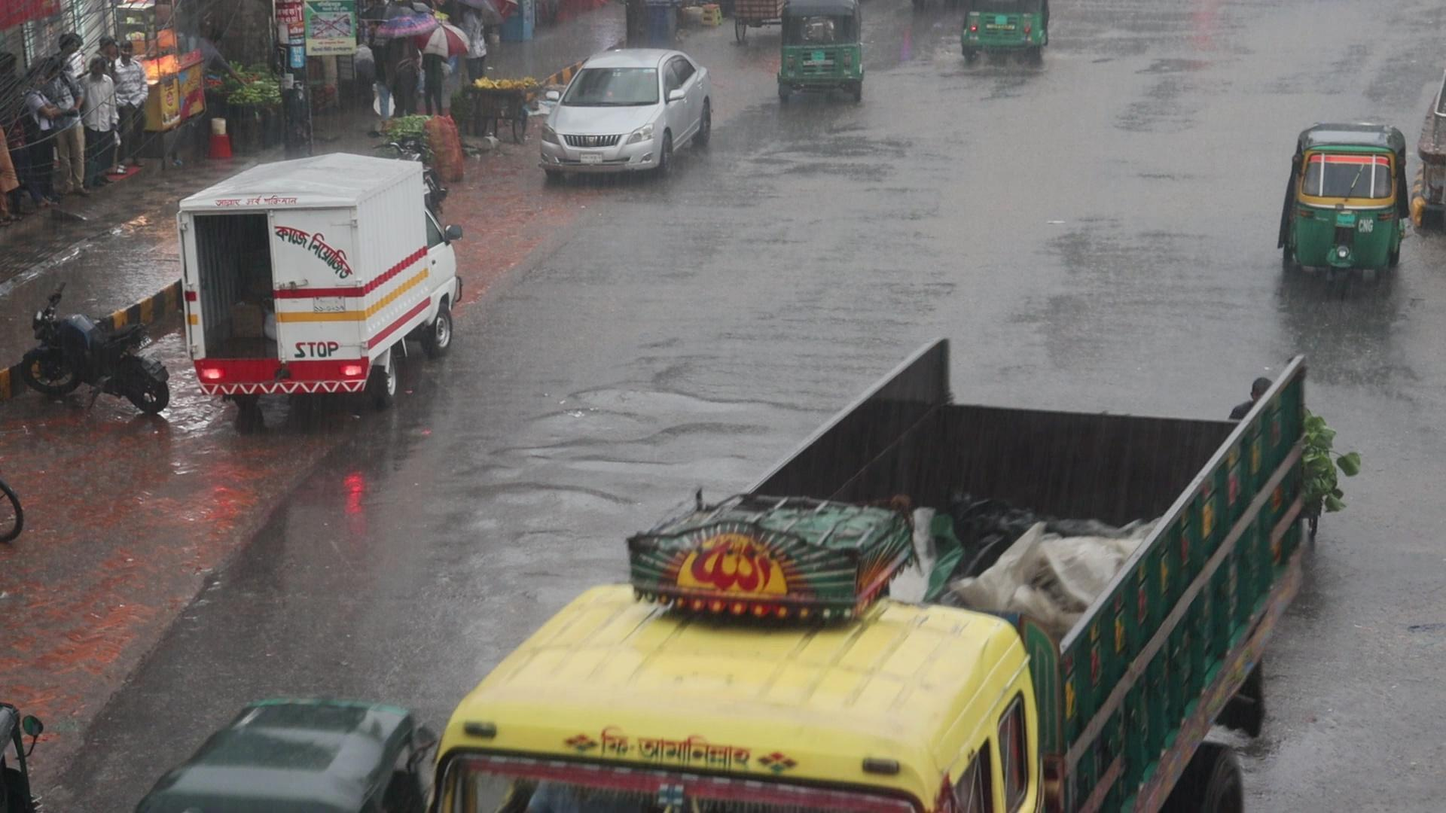Truck: (419, 322, 1316, 813)
